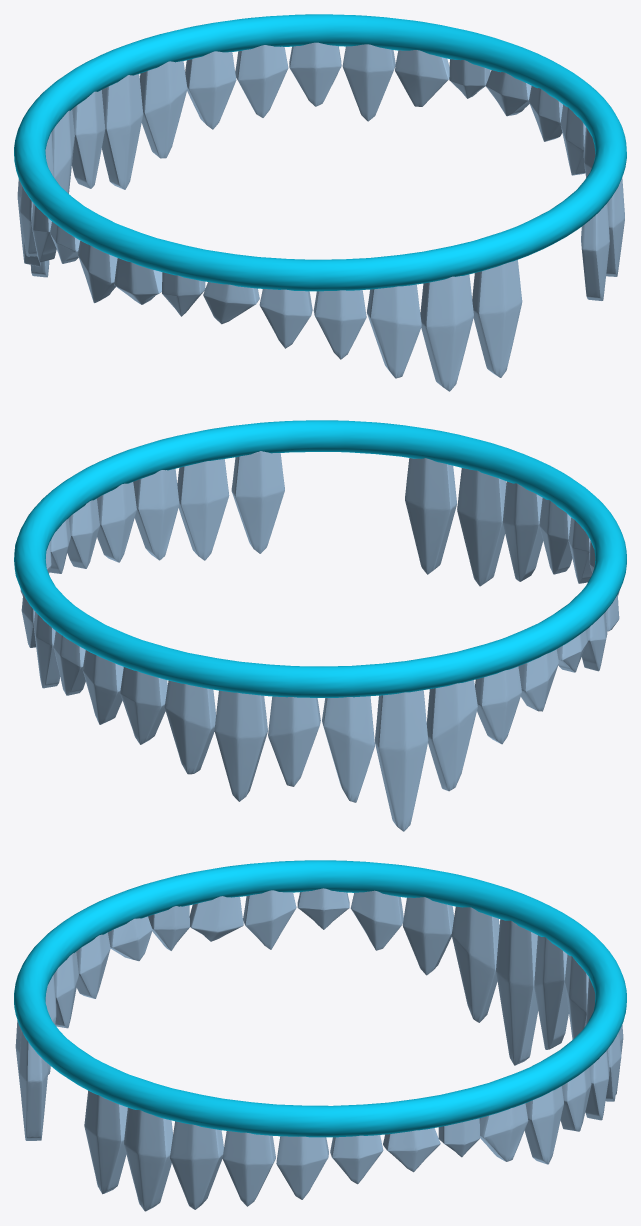
3 renders of one model, top to bottom at view 1: azimuth 30°, elevation 25°; view 2: azimuth 150°, elevation 25°; view 3: azimuth 270°, elevation 25°, orthographic.
Parts seen in each view (by area): view 1: crystal_004, neck_ice_004; view 2: crystal_004, neck_ice_004; view 3: crystal_004, neck_ice_004.
Part boxes in pixels (box(x1,y1,x2,y2)): crystal_004: box(17, 42, 624, 391); neck_ice_004: box(14, 14, 626, 291); crystal_004: box(20, 451, 619, 831); neck_ice_004: box(14, 420, 626, 697); crystal_004: box(15, 888, 623, 1211); neck_ice_004: box(14, 860, 626, 1137).
Bounding box in the file's own units: 55.38 × 55.38 × 16.7.
